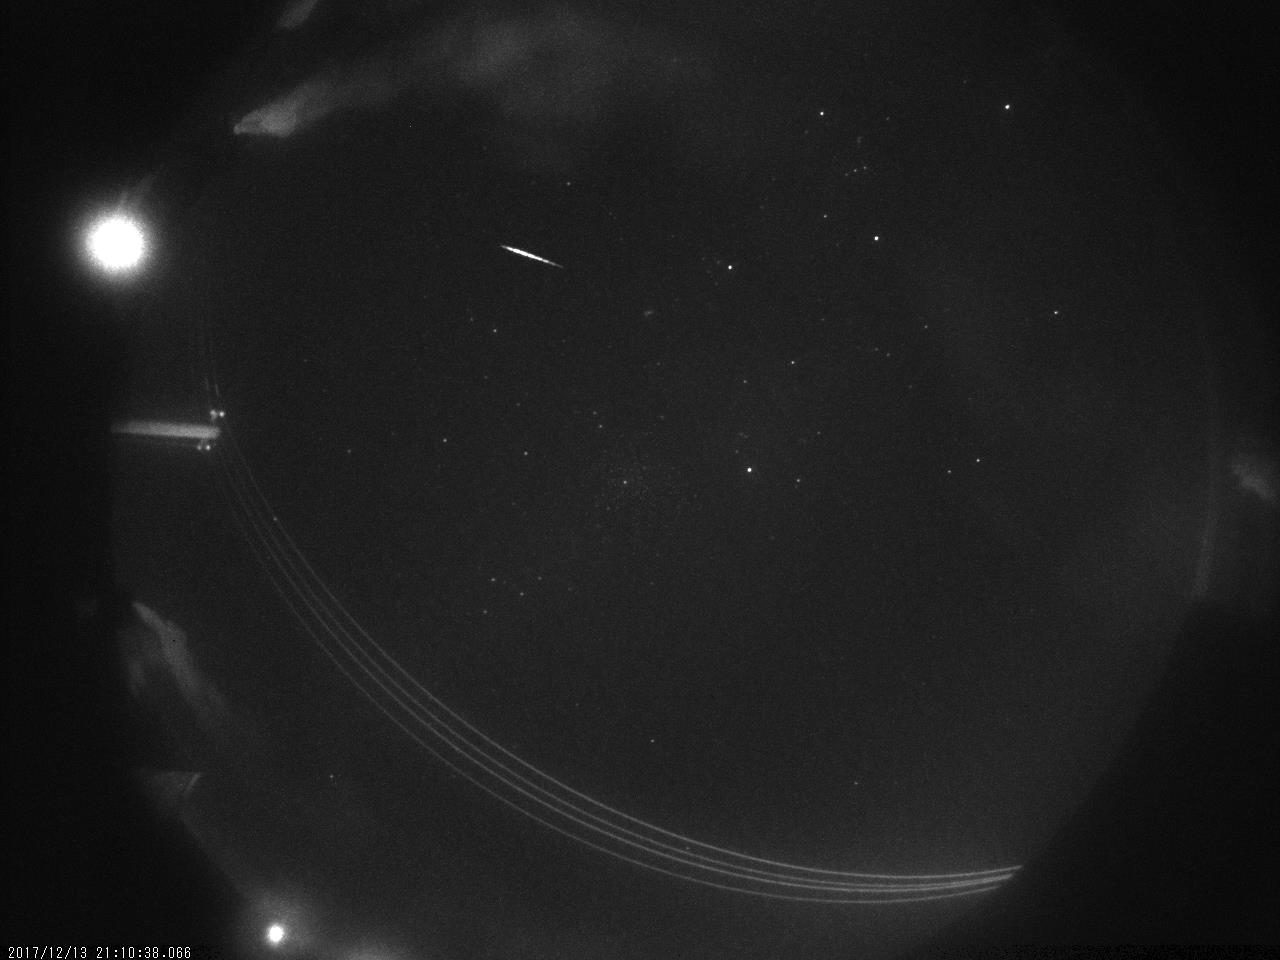meteor: (453, 217, 613, 291)
